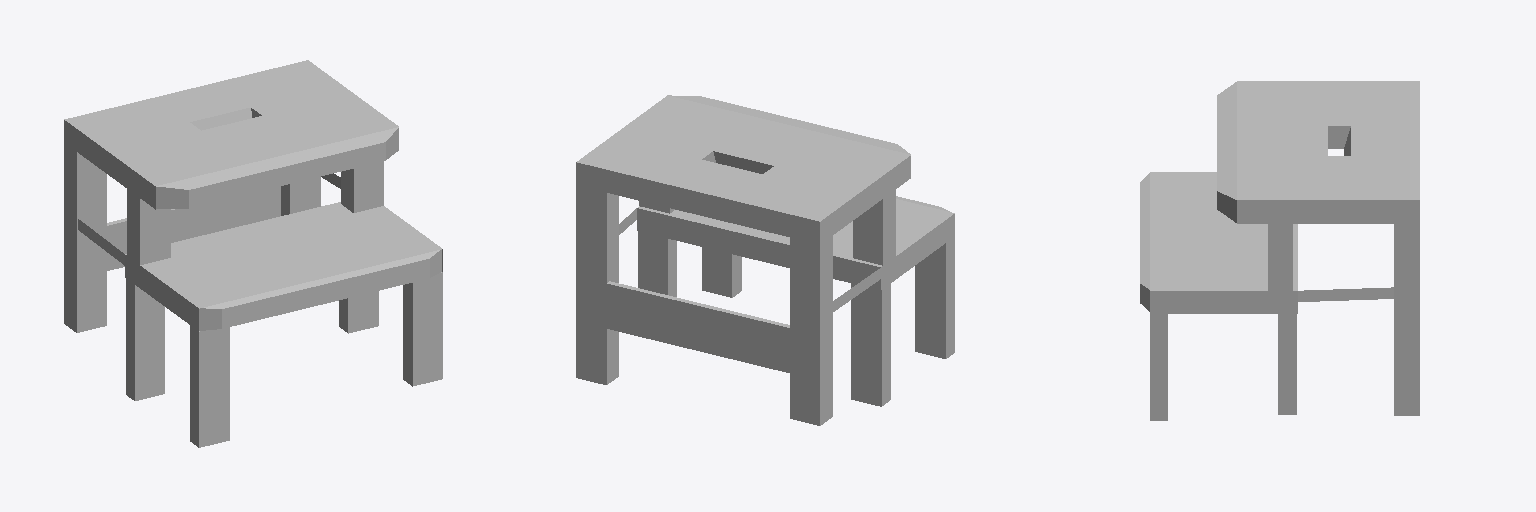
Rendered from kruk.obj.
3 views of the same model, side by side, from view 1: azimuth 30°, elevation 25°; view 2: azimuth 150°, elevation 25°; view 3: azimuth 270°, elevation 25° (orthographic).
Visible parts, largest first — view 1: Cube.011_Cube.014; view 2: Cube.011_Cube.014; view 3: Cube.011_Cube.014.
Boxes of the visible parts, box(x1,y1,x2,y2) form: Cube.011_Cube.014: box(64, 60, 442, 447); Cube.011_Cube.014: box(576, 95, 954, 425); Cube.011_Cube.014: box(1140, 81, 1419, 420).
Bounding box in the file's own units: 1.54 × 1.39 × 1.53.